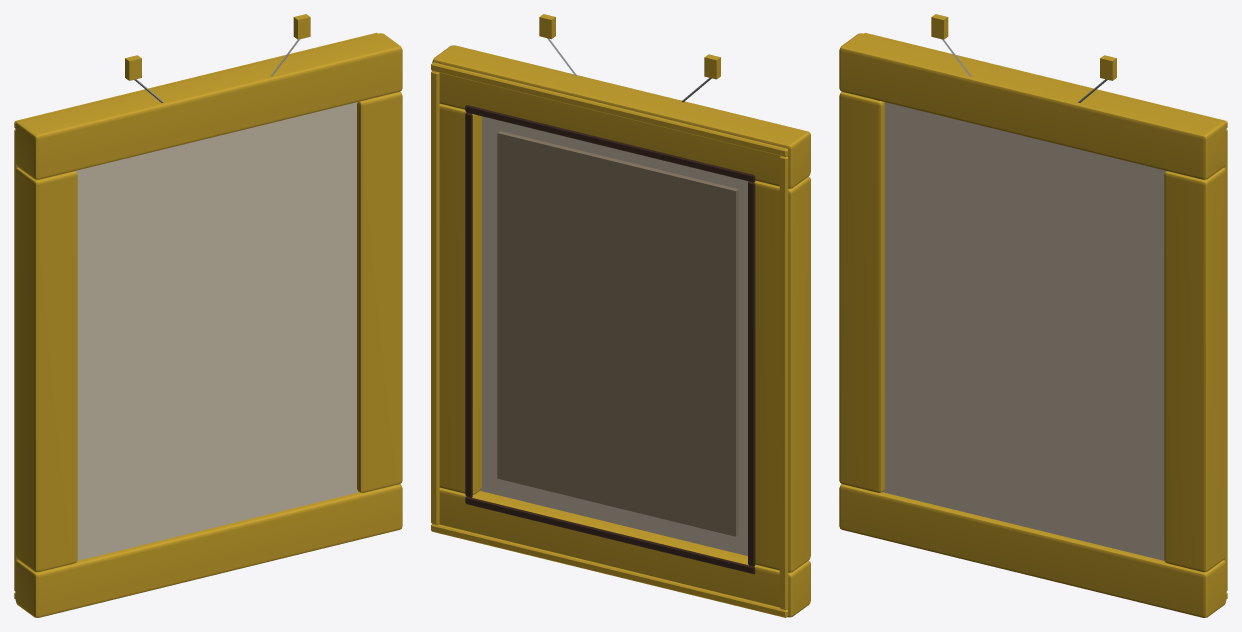
The model's file is prop_canvas_study2.glb.
3 renders of one model, left to right at view 1: azimuth 30°, elevation 25°; view 2: azimuth 150°, elevation 25°; view 3: azimuth 330°, elevation 25°, orthographic. The views are drawn at different scales.
Visible parts, largest first — view 1: Canvas, Hooks; view 2: Canvas, Paint, Hooks; view 3: Canvas, Hooks.
Part boxes in pixels (x1=…): Canvas: x1=14, y1=32, x2=402, y2=617; Hooks: x1=125, y1=14, x2=310, y2=102; Canvas: x1=431, y1=45, x2=810, y2=617; Paint: x1=497, y1=131, x2=738, y2=536; Hooks: x1=539, y1=14, x2=720, y2=102; Canvas: x1=839, y1=32, x2=1227, y2=617; Hooks: x1=931, y1=14, x2=1116, y2=102.
Bounding box in the file's own units: 0.59 × 0.82 × 0.068.
